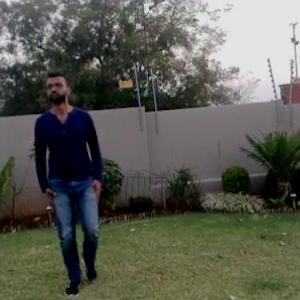follow: (36, 67, 116, 288)
